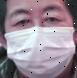with_mask: (1, 2, 77, 78)
